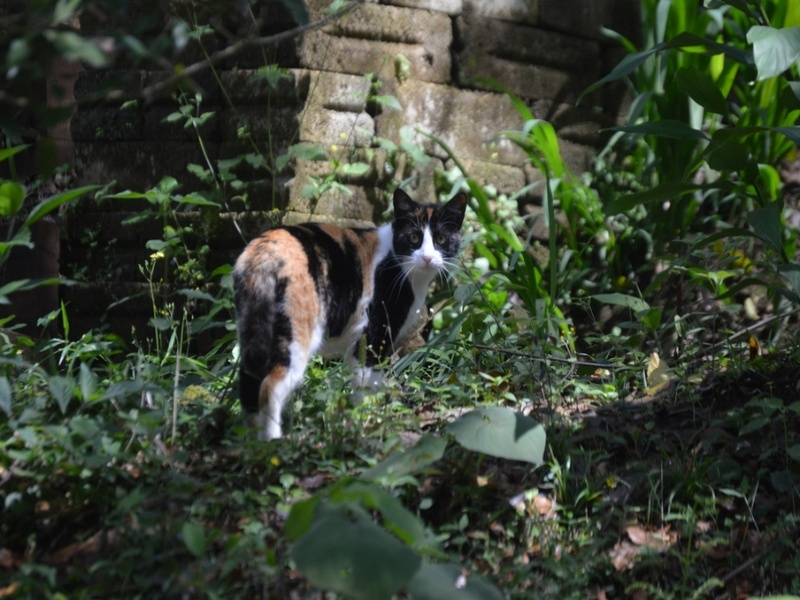cat: (232, 183, 476, 445)
